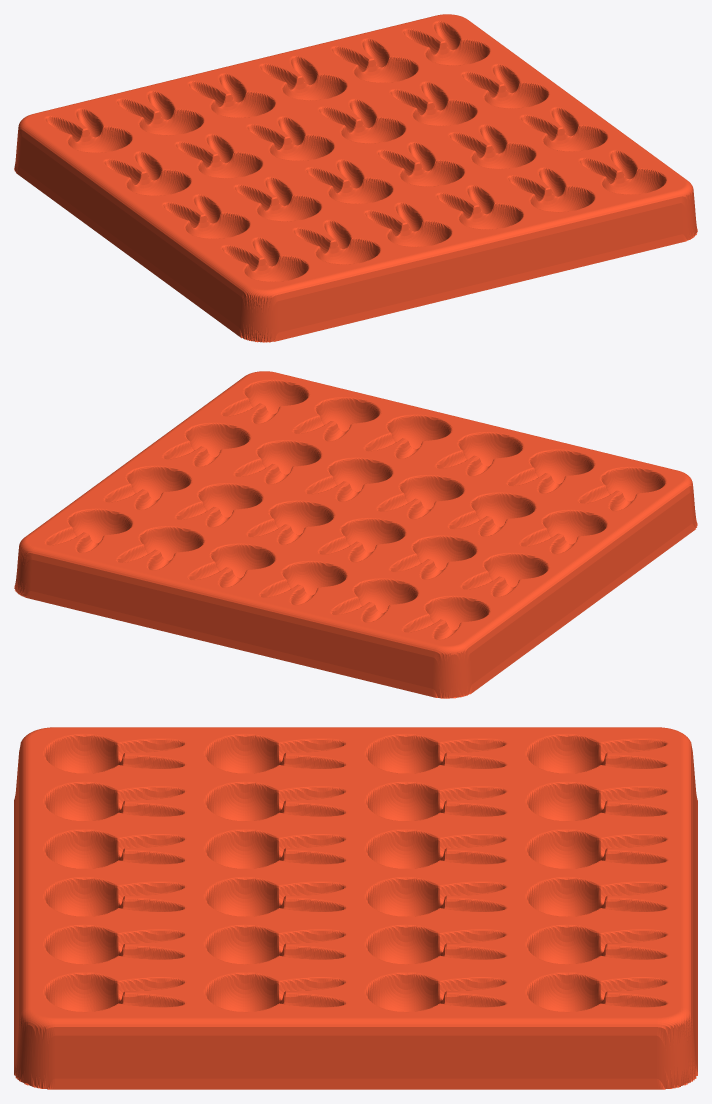
Rendered from mold.glb.
3 views of the same model, one above another, from view 1: azimuth 30°, elevation 25°; view 2: azimuth 150°, elevation 25°; view 3: azimuth 270°, elevation 25° (orthographic). The views are drawn at different scales.
Parts seen in each view (by area): view 1: geometry_0; view 2: geometry_0; view 3: geometry_0.
Part boxes in pixels (x1,y1,x2,y2): geometry_0: (14, 14, 697, 342); geometry_0: (14, 371, 697, 698); geometry_0: (14, 727, 697, 1089).
Bounding box in the file's own units: 0.1592 × 0.0159 × 0.1516.
